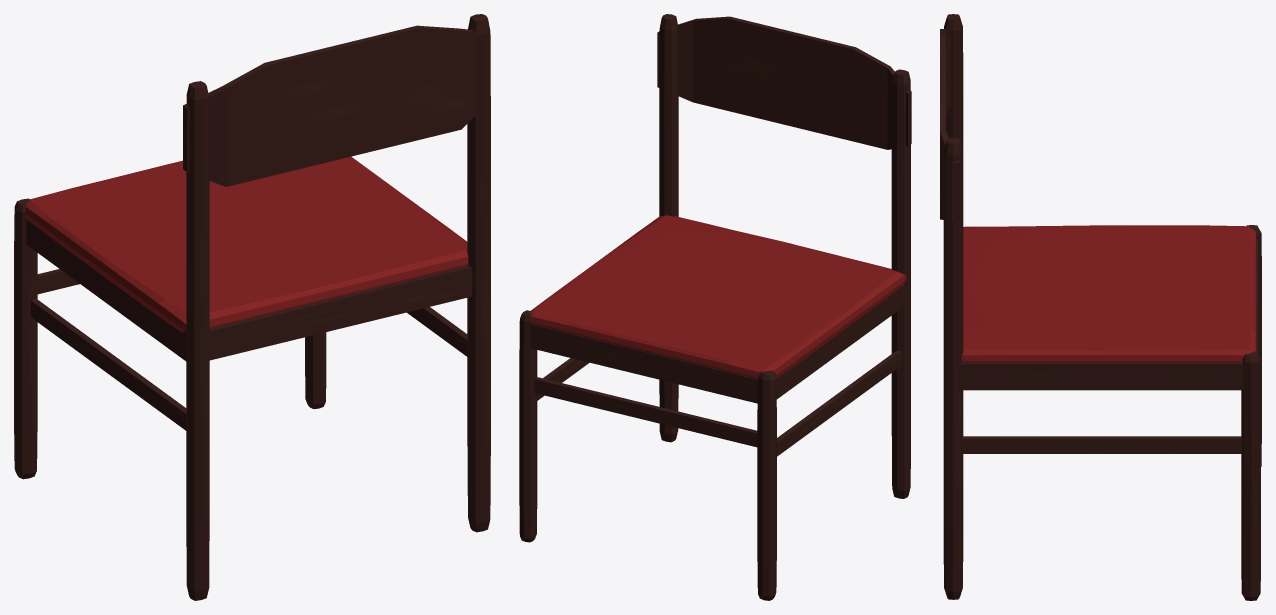
Rendered from ChairSolid.fbx.
The picture shows the model from 3 angles, left to right: view 1: azimuth 30°, elevation 25°; view 2: azimuth 150°, elevation 25°; view 3: azimuth 270°, elevation 25°; orthographic projection. The views are drawn at different scales.
Visible parts, largest first — view 1: Cube.004; view 2: Cube.004; view 3: Cube.004.
Boxes of the visible parts, box(x1,y1,x2,y2) form: Cube.004: box(14, 14, 490, 600); Cube.004: box(519, 14, 911, 600); Cube.004: box(940, 14, 1261, 600).
Bounding box in the file's own units: 197 × 318 × 199.
2 materials, 2 textured.
